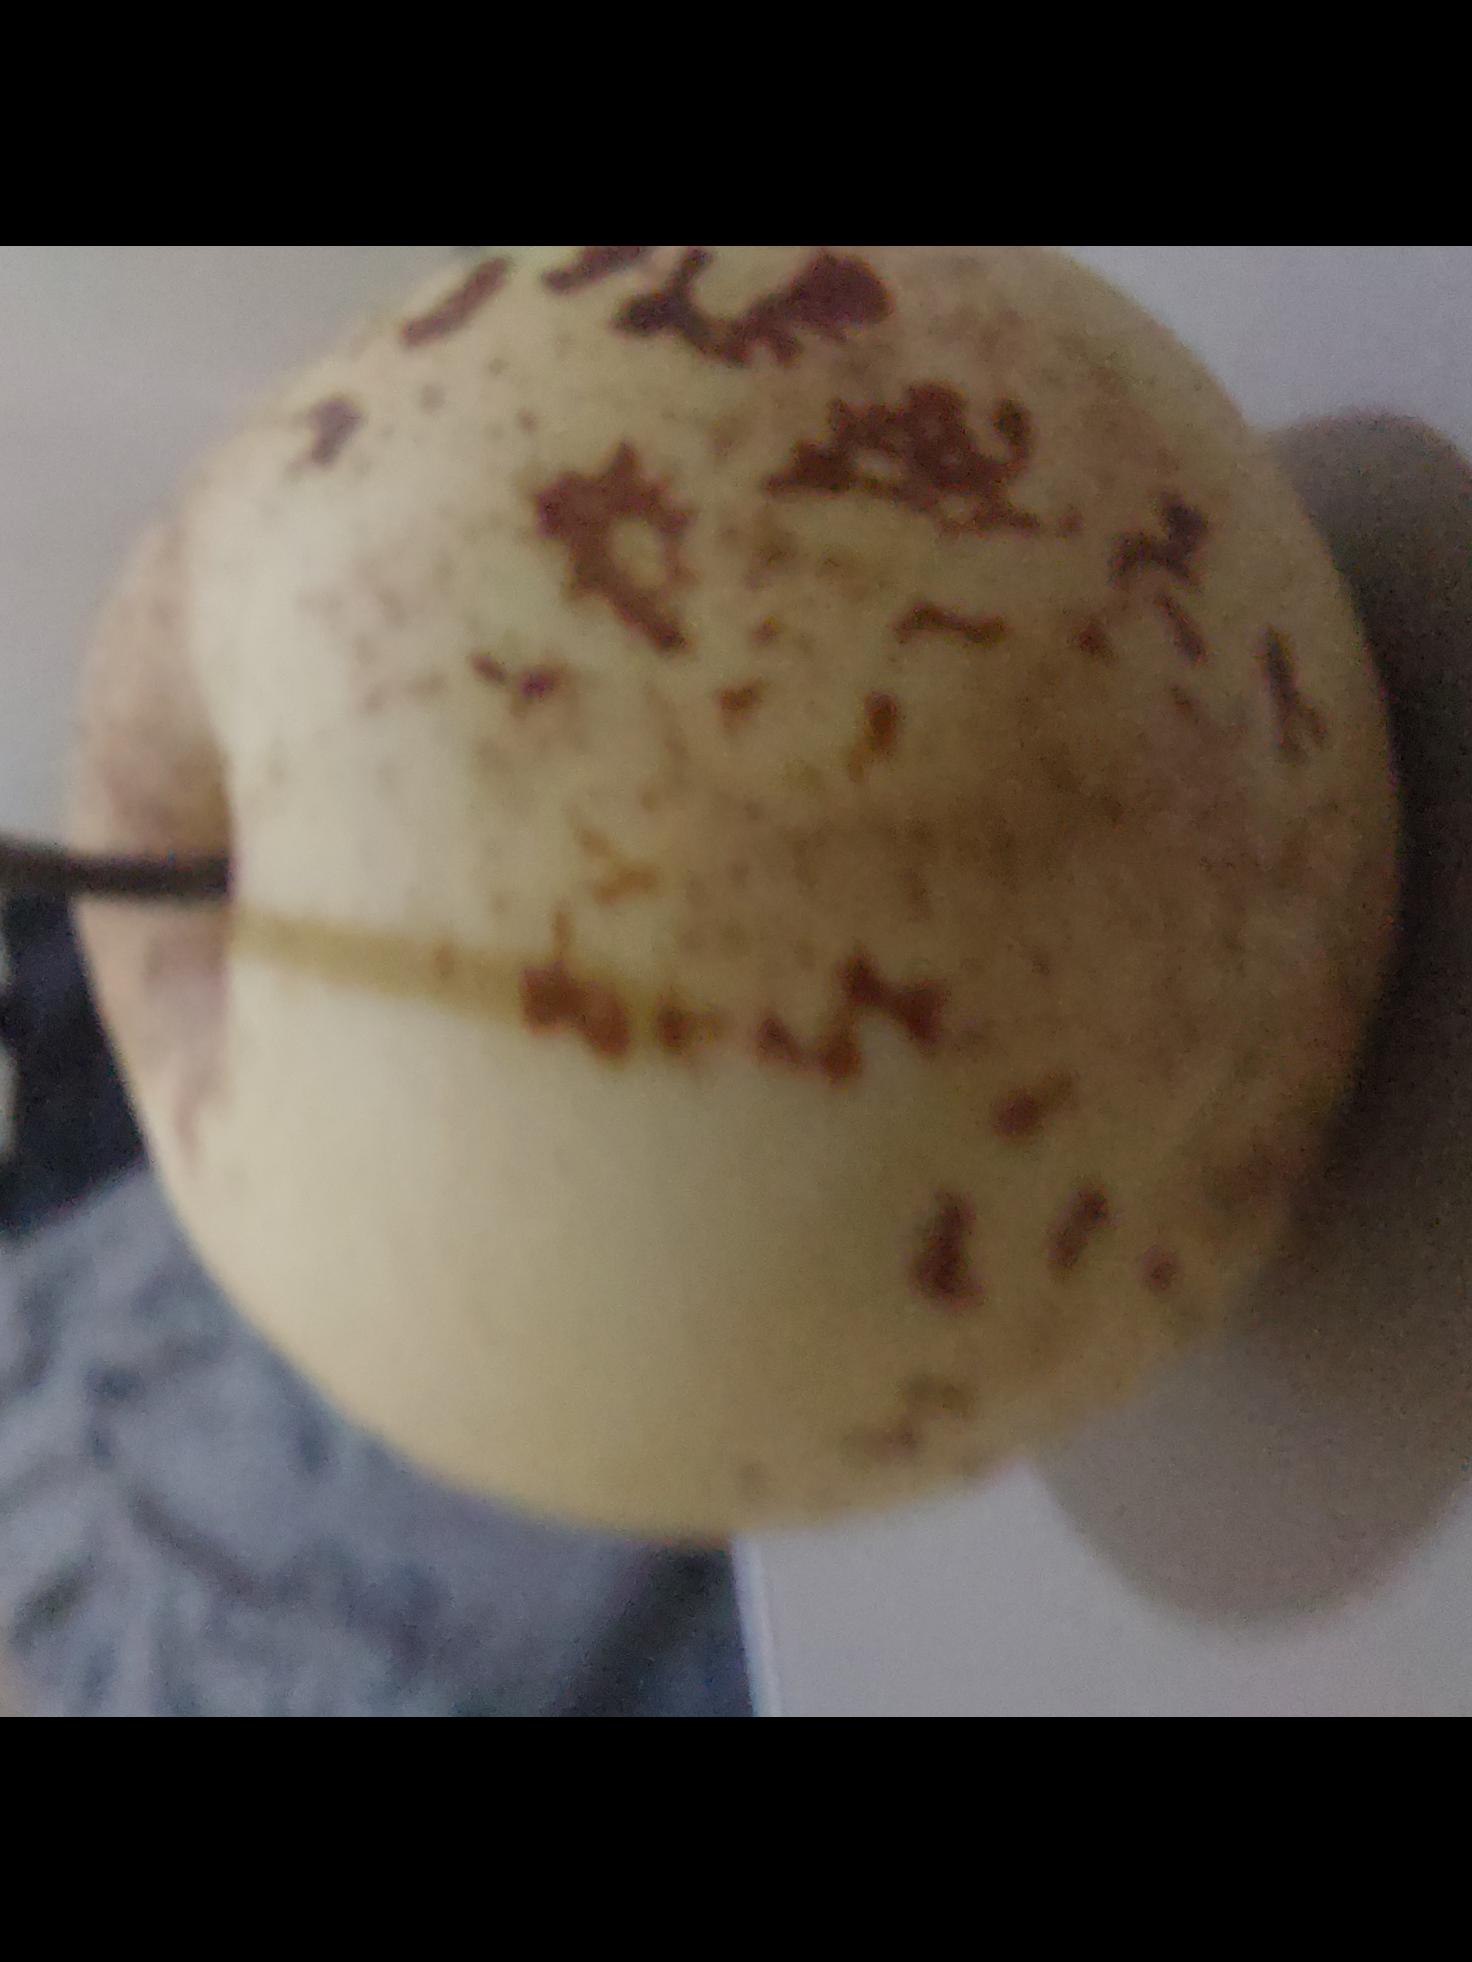Bad Pear: (101, 244, 1384, 1528)
